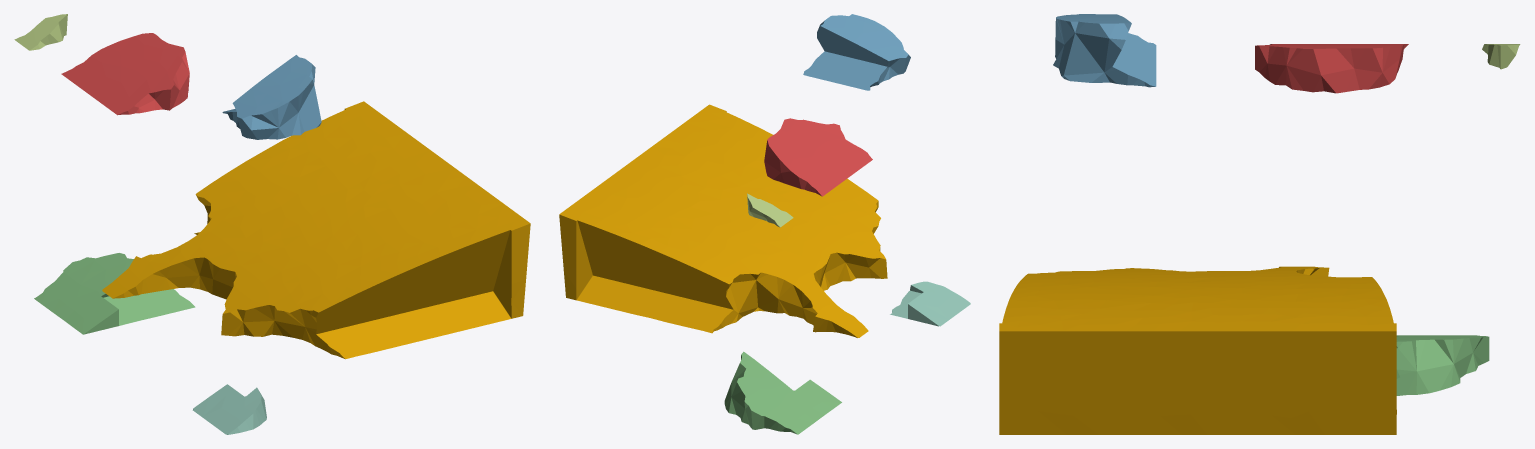
The model's file is fractured_2_6pcs_transformed.glb.
The picture shows the model from 3 angles, left to right: view 1: azimuth 30°, elevation 25°; view 2: azimuth 150°, elevation 25°; view 3: azimuth 270°, elevation 25°; orthographic projection. The views are drawn at different scales.
Parts seen in each view (by area): view 1: piece_0.obj, piece_1.obj, piece_3.obj, piece_2.obj, piece_4.obj, piece_5.obj; view 2: piece_0.obj, piece_1.obj, piece_2.obj, piece_3.obj, piece_4.obj, piece_5.obj; view 3: piece_0.obj, piece_1.obj, piece_2.obj, piece_3.obj, piece_5.obj.
Part boxes in pixels (x1,y1,x2,y2): piece_0.obj: [102, 101, 530, 359]; piece_1.obj: [61, 33, 189, 115]; piece_3.obj: [34, 253, 195, 334]; piece_2.obj: [222, 55, 321, 139]; piece_4.obj: [192, 384, 266, 434]; piece_5.obj: [14, 14, 67, 50]; piece_0.obj: [559, 104, 887, 337]; piece_1.obj: [764, 118, 872, 196]; piece_2.obj: [803, 14, 910, 90]; piece_3.obj: [724, 351, 841, 434]; piece_4.obj: [890, 281, 970, 326]; piece_5.obj: [747, 193, 793, 227]; piece_0.obj: [999, 266, 1396, 434]; piece_1.obj: [1255, 44, 1408, 93]; piece_2.obj: [1053, 14, 1156, 87]; piece_3.obj: [1396, 335, 1489, 395]; piece_5.obj: [1482, 44, 1520, 69].
Bounding box in the file's own units: 1 × 1.03 × 1.27.
